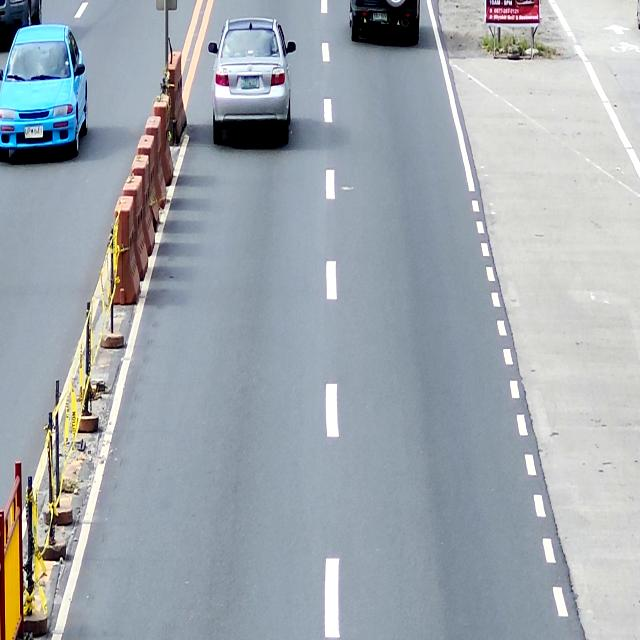Car: (0, 23, 88, 160), (208, 17, 296, 145), (348, 0, 420, 44), (0, 0, 43, 53)
License-Plate: (238, 74, 262, 90), (23, 124, 45, 140), (371, 11, 389, 23)
